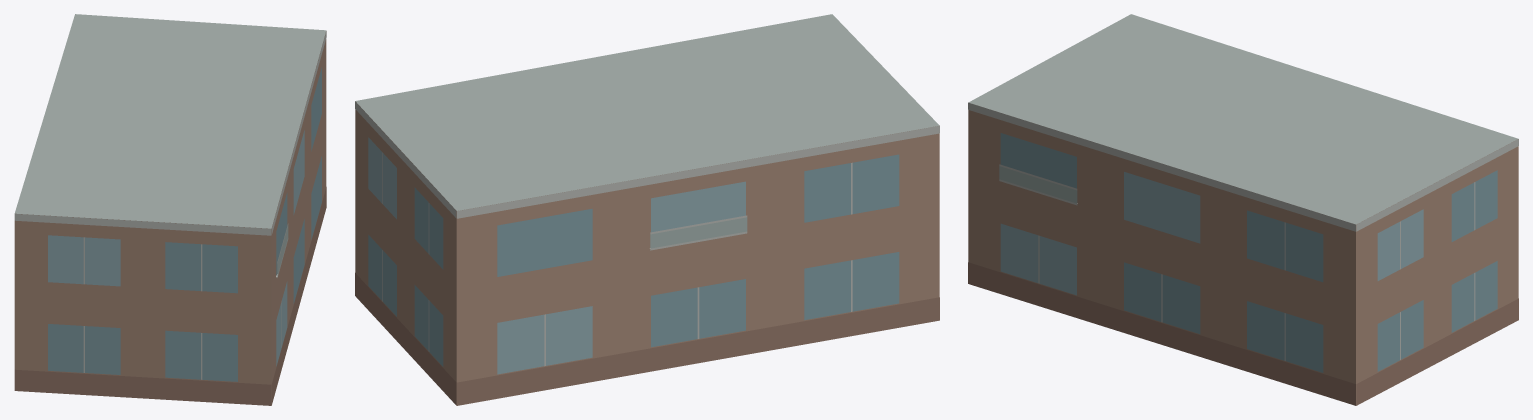
The model's file is survey-upis-32554550.glb.
3 renders of one model, left to right at view 1: azimuth 30°, elevation 25°; view 2: azimuth 150°, elevation 25°; view 3: azimuth 270°, elevation 25°, orthographic. The views are drawn at different scales.
Parts seen in each view (by area): view 1: survey-upis-32554550.tmp; view 2: survey-upis-32554550.tmp; view 3: survey-upis-32554550.tmp.
Part boxes in pixels (box(x1,y1,x2,y2)): survey-upis-32554550.tmp: box(14, 14, 326, 405); survey-upis-32554550.tmp: box(355, 14, 939, 405); survey-upis-32554550.tmp: box(968, 14, 1518, 405).
Bounding box in the file's own units: 15.2 × 6.1 × 16.8.
